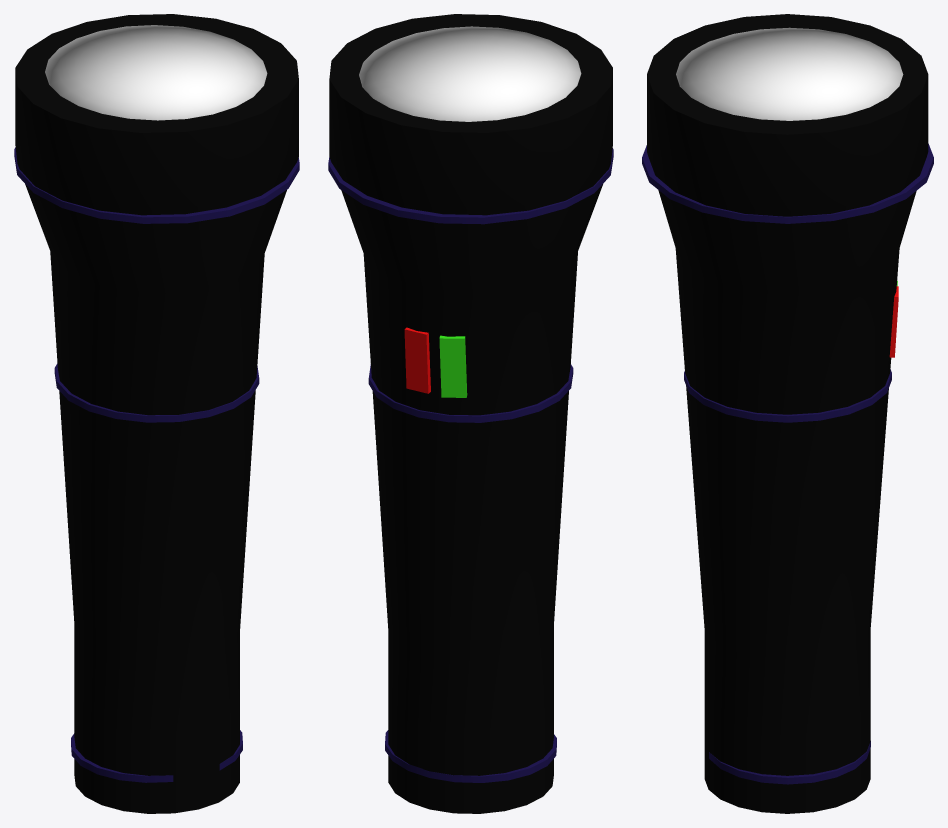
File: torch_free.glb
3 renders of one model, left to right at view 1: azimuth 30°, elevation 25°; view 2: azimuth 150°, elevation 25°; view 3: azimuth 270°, elevation 25°, orthographic.
Parts seen in each view (by area): view 1: Object_2, Object_5, Object_6; view 2: Object_2, Object_5, Object_6, Object_3, Object_4; view 3: Object_2, Object_5, Object_6.
Boxes of the visible parts, x1,y1,x2,y2 form: Object_2: [15, 14, 298, 813]; Object_5: [45, 25, 267, 120]; Object_6: [14, 147, 299, 782]; Object_2: [329, 14, 612, 813]; Object_5: [359, 26, 581, 121]; Object_6: [328, 148, 613, 782]; Object_3: [439, 335, 467, 397]; Object_4: [404, 327, 430, 393]; Object_2: [647, 14, 928, 813]; Object_5: [676, 27, 903, 120]; Object_6: [642, 143, 933, 784].
Size of the model in its own units: 1.72 by 4.72 by 1.76.
